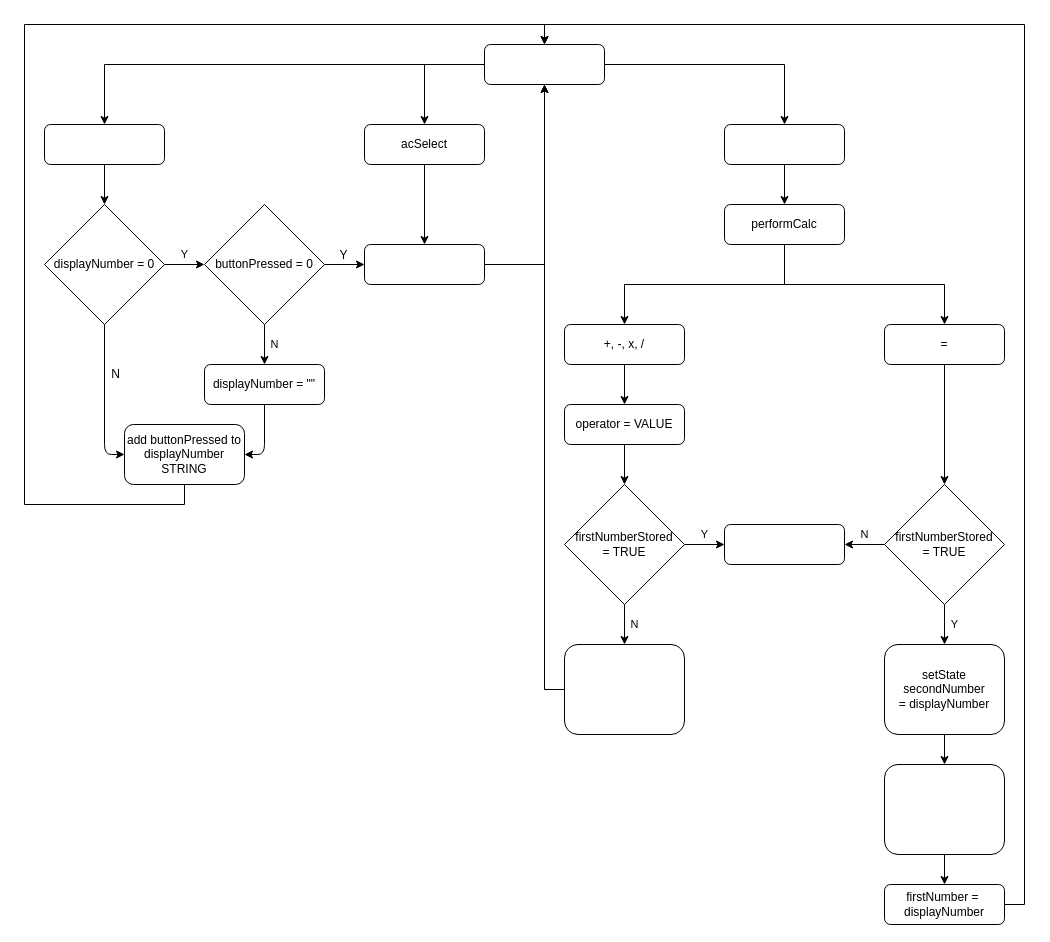
This 1050x942 diagram has some shape labels left out. Here are the shapes that lost their labels. From the top down, the centre of each, then its label:
At (x=544, y=64): "Calculator App".
At (x=104, y=144): "numberSelect".
At (x=784, y=144): "Operator Selected".
At (x=424, y=264): "newNumberStart".
At (x=784, y=544): "DO NOTHING".
At (x=624, y=689): "setState firstNumber = displayNumber firstNumberStored = TRUE".
At (x=944, y=809): "setState displayNumber = firstNumber OPERATOR secondNumber".
